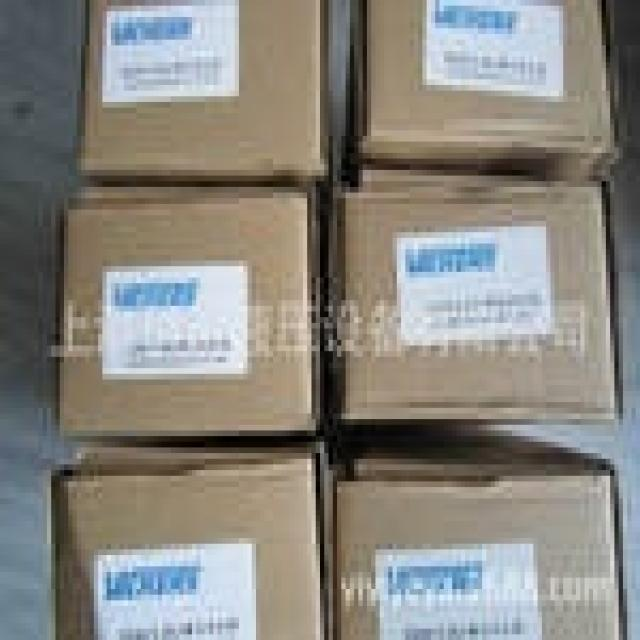box: (329, 170, 619, 425), (60, 187, 320, 442), (324, 436, 627, 640), (51, 442, 329, 640), (346, 0, 614, 176), (77, 0, 329, 181)
